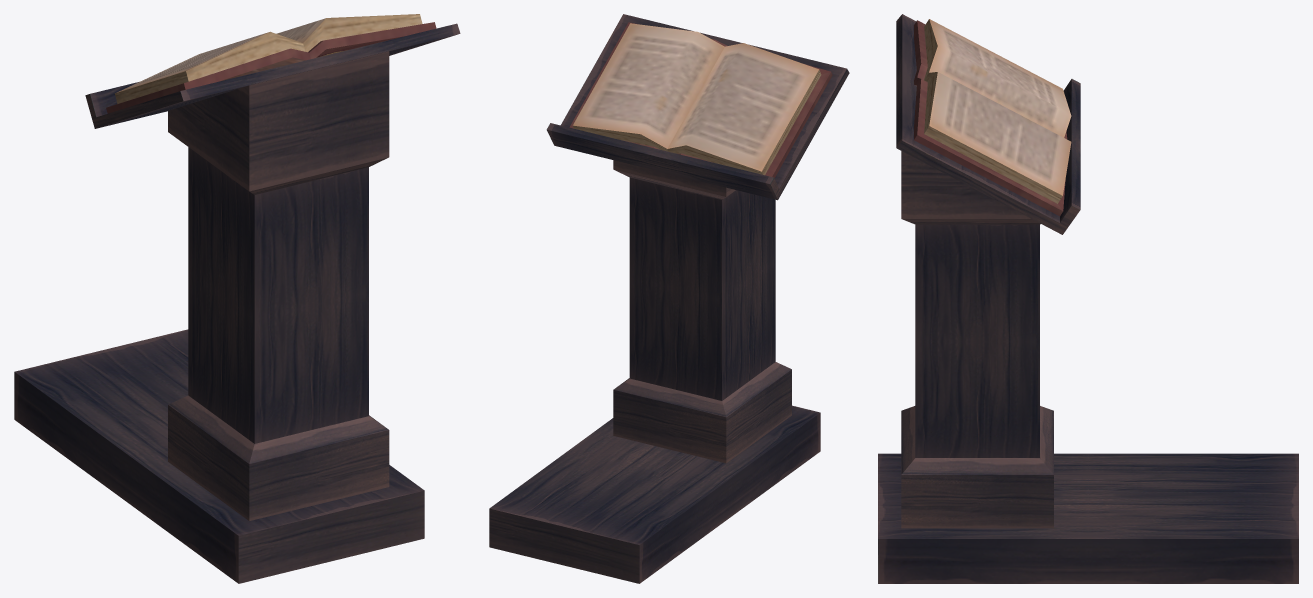
The model's file is Book_Stand_A.fbx.
3 views of the same model, side by side, from view 1: azimuth 30°, elevation 25°; view 2: azimuth 150°, elevation 25°; view 3: azimuth 270°, elevation 25° (orthographic). The views are drawn at different scales.
Parts seen in each view (by area): view 1: Book_Stand_A; view 2: Book_Stand_A; view 3: Book_Stand_A.
Part boxes in pixels (bbox=[...]): Book_Stand_A: bbox=[14, 14, 460, 583]; Book_Stand_A: bbox=[489, 14, 849, 583]; Book_Stand_A: bbox=[878, 14, 1298, 583].
Size of the model in its own units: 0.1661 by 0.2943 by 0.2331.
